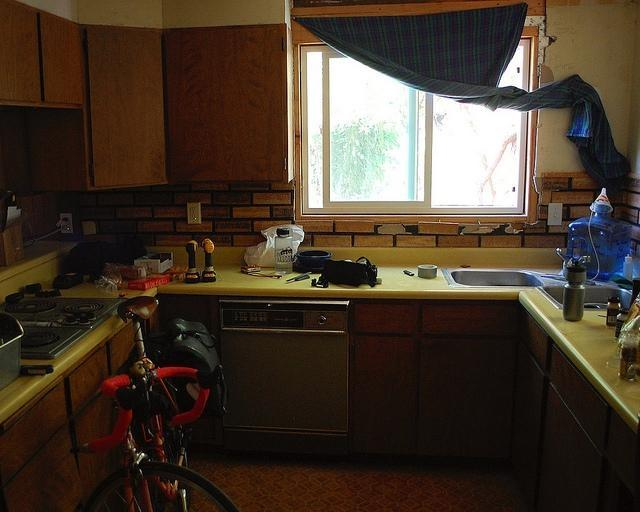bicycle: (70, 292, 236, 503)
